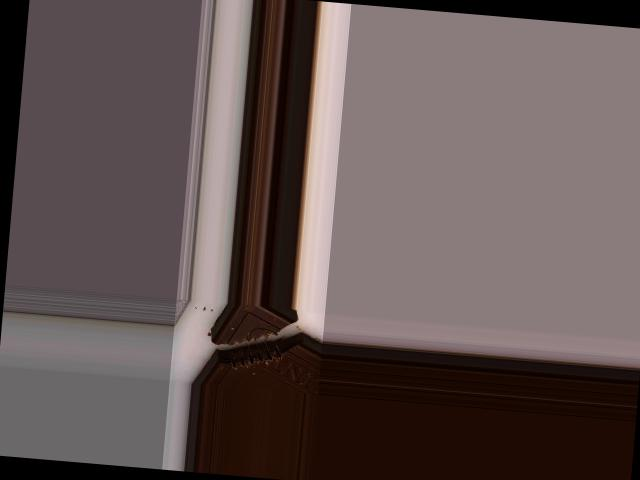chocolate: (190, 300, 324, 392)
